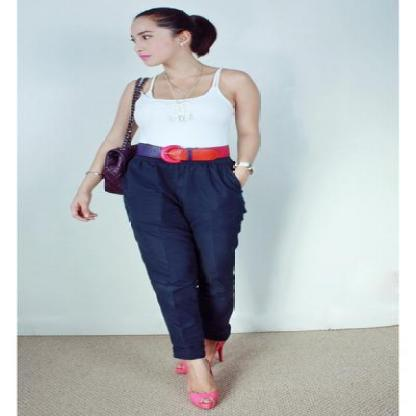bag: (99, 142, 136, 194)
pants: (118, 158, 246, 359)
shirt: (124, 75, 236, 154)
shoe: (162, 339, 225, 407)
